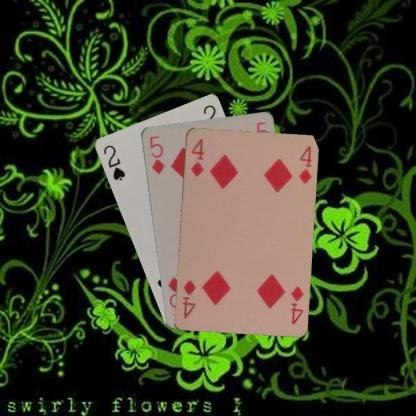2s: (100, 142, 126, 182)
4d: (188, 135, 206, 178), (286, 283, 304, 326)
5d: (147, 133, 166, 176)
